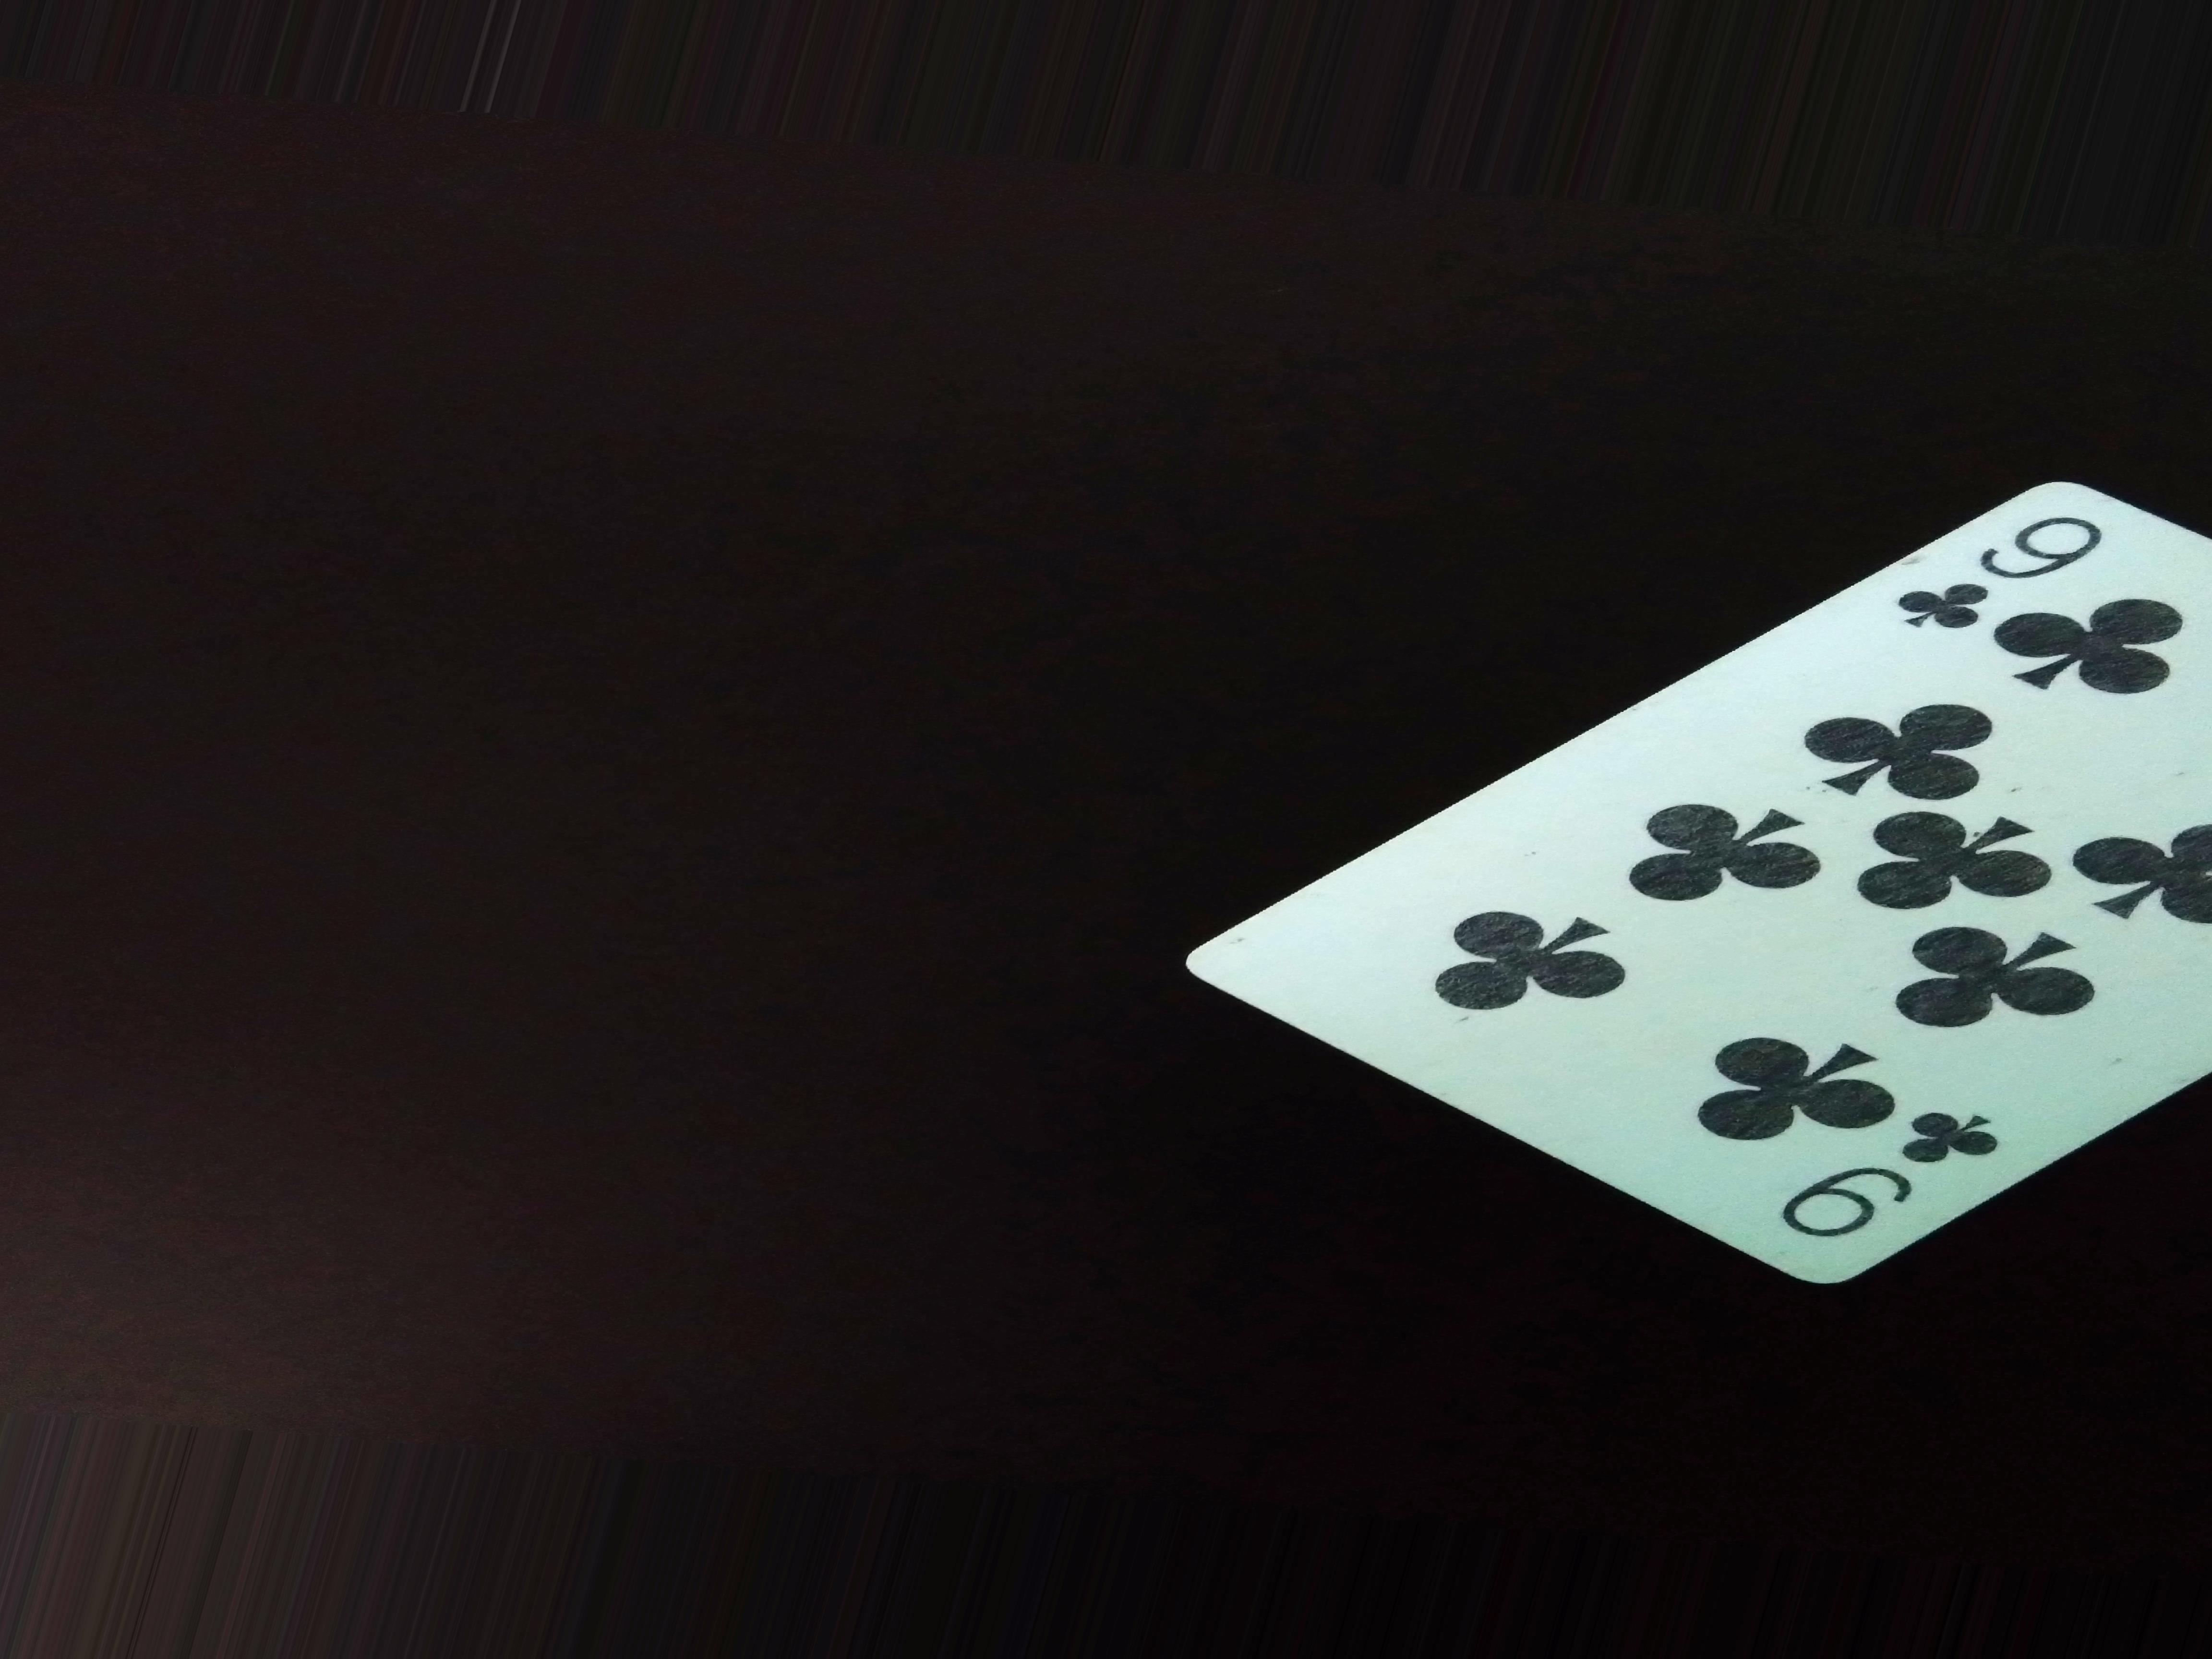9C: (1876, 498, 2107, 634)
